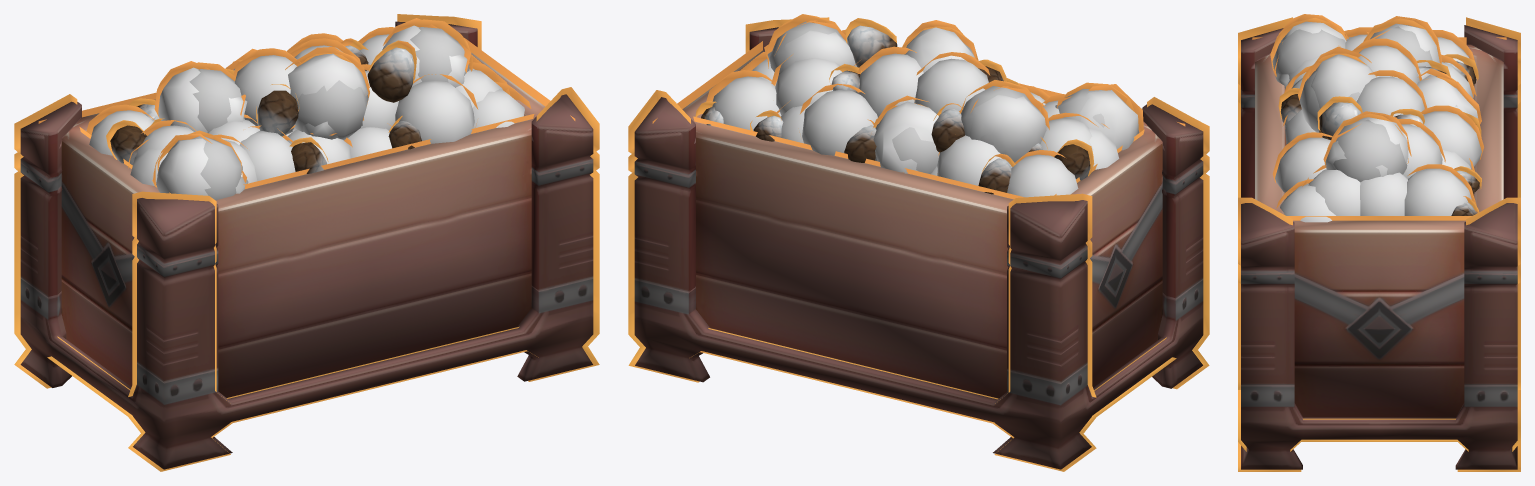
File: powerup.glb
The picture shows the model from 3 angles, left to right: view 1: azimuth 30°, elevation 25°; view 2: azimuth 150°, elevation 25°; view 3: azimuth 270°, elevation 25°; orthographic projection. The views are drawn at different scales.
Parts seen in each view (by area): view 1: powerup; view 2: powerup; view 3: powerup.
Part boxes in pixels (x1,y1,x2,y2): powerup: (14, 14, 599, 471); powerup: (628, 14, 1209, 471); powerup: (1238, 14, 1520, 471).
Size of the model in its own units: 0.875 by 0.6302 by 0.506.
4 materials, 4 textured.
